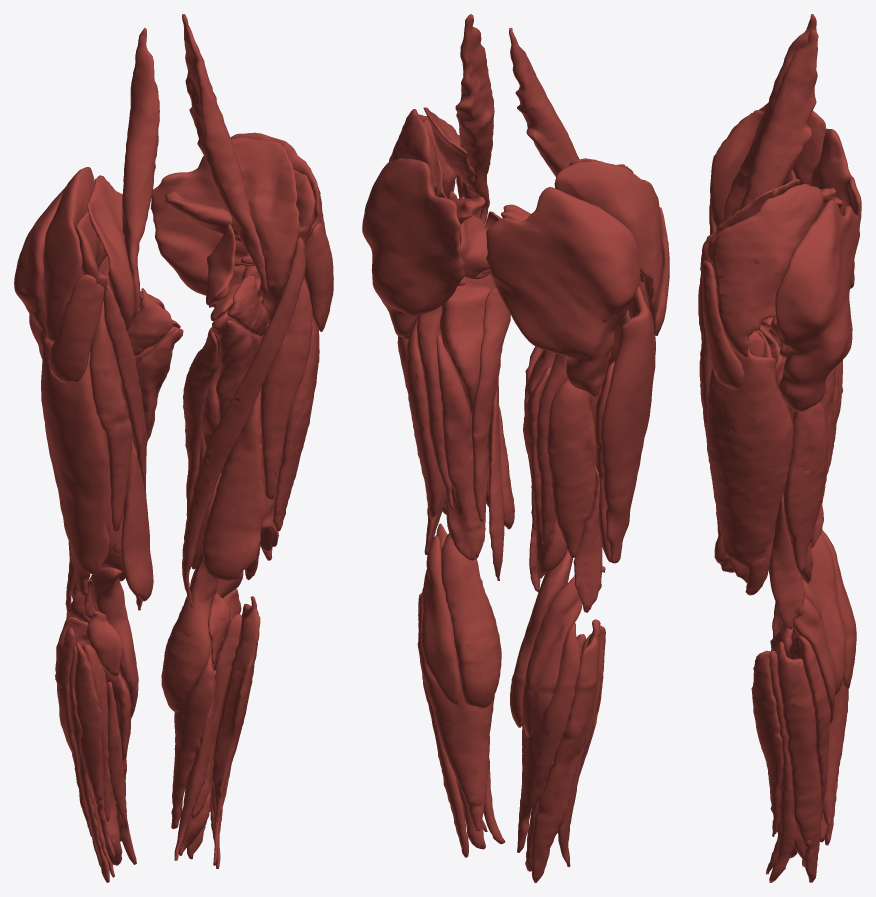
Rendered from vhf_denver_ct_adult_female.muscular.LOD2.glb.
3 views of the same model, side by side, from view 1: azimuth 30°, elevation 25°; view 2: azimuth 150°, elevation 25°; view 3: azimuth 270°, elevation 25° (orthographic).
Visible parts, largest first — view 1: VHF_DENVER_CT.ADULT.FEMALE.MUSCULAR.VASTUS_LATERALIS.R, VHF_DENVER_CT.ADULT.FEMALE.MUSCULAR.GASTROCNEMIUS_MEDIAL_HEA (×2), VHF_DENVER_CT.ADULT.FEMALE.MUSCULAR.VASTUS_MEDIALIS.L, VHF_DENVER_CT.ADULT.FEMALE.MUSCULAR.SARTORIUS.L, VHF_DENVER_CT.ADULT.FEMALE.MUSCULAR.ILIACUS.L, VHF_DENVER_CT.ADULT.FEMALE.MUSCULAR.PSOAS_MAJOR.L, VHF_DENVER_CT.ADULT.FEMALE.MUSCULAR.PSOAS_MAJOR.R, VHF_DENVER_CT.ADULT.FEMALE.MUSCULAR.GLUTEUS_MAXIMUS.L, VHF_DENVER_CT.ADULT.FEMALE.MUSCULAR.RECTUS_FEMORIS.L, VHF_DENVER_CT.ADULT.FEMALE.MUSCULAR.GLUTEUS_MEDIUS.R, VHF_DENVER_CT.ADULT.FEMALE.MUSCULAR.RECTUS_FEMORIS.R, VHF_DENVER_CT.ADULT.FEMALE.MUSCULAR.TIBIALIS_ANTERIOR.L (+32 smaller); view 2: VHF_DENVER_CT.ADULT.FEMALE.MUSCULAR.GLUTEUS_MAXIMUS.R, VHF_DENVER_CT.ADULT.FEMALE.MUSCULAR.GLUTEUS_MAXIMUS.L, VHF_DENVER_CT.ADULT.FEMALE.MUSCULAR.BICEPS_FEMORIS_LONG_HEAD (×2), VHF_DENVER_CT.ADULT.FEMALE.MUSCULAR.GASTROCNEMIUS_MEDIAL_HEA (×2), VHF_DENVER_CT.ADULT.FEMALE.MUSCULAR.VASTUS_LATERALIS.R, VHF_DENVER_CT.ADULT.FEMALE.MUSCULAR.GASTROCNEMIUS_LATERAL_HE (×2), VHF_DENVER_CT.ADULT.FEMALE.MUSCULAR.FIBULARIS_PERONEUS_LONGU (×2), VHF_DENVER_CT.ADULT.FEMALE.MUSCULAR.GLUTEUS_MEDIUS.R, VHF_DENVER_CT.ADULT.FEMALE.MUSCULAR.SEMIMEMBRANOSUS.L, VHF_DENVER_CT.ADULT.FEMALE.MUSCULAR.SOLEUS.L, VHF_DENVER_CT.ADULT.FEMALE.MUSCULAR.SOLEUS.R, VHF_DENVER_CT.ADULT.FEMALE.MUSCULAR.PSOAS_MAJOR.L (+17 smaller); view 3: VHF_DENVER_CT.ADULT.FEMALE.MUSCULAR.VASTUS_LATERALIS.L, VHF_DENVER_CT.ADULT.FEMALE.MUSCULAR.GLUTEUS_MAXIMUS.L, VHF_DENVER_CT.ADULT.FEMALE.MUSCULAR.GLUTEUS_MEDIUS.L, VHF_DENVER_CT.ADULT.FEMALE.MUSCULAR.PSOAS_MAJOR.L, VHF_DENVER_CT.ADULT.FEMALE.MUSCULAR.FIBULARIS_PERONEUS_LONGU, VHF_DENVER_CT.ADULT.FEMALE.MUSCULAR.BICEPS_FEMORIS_LONG_HEAD, VHF_DENVER_CT.ADULT.FEMALE.MUSCULAR.GASTROCNEMIUS_LATERAL_HE (×2), VHF_DENVER_CT.ADULT.FEMALE.MUSCULAR.GASTROCNEMIUS_MEDIAL_HEA (×2), VHF_DENVER_CT.ADULT.FEMALE.MUSCULAR.TIBIALIS_ANTERIOR.L, VHF_DENVER_CT.ADULT.FEMALE.MUSCULAR.BICEPS_FEMORIS_SHORT_HEA, VHF_DENVER_CT.ADULT.FEMALE.MUSCULAR.ILIACUS.R, VHF_DENVER_CT.ADULT.FEMALE.MUSCULAR.TENSOR_FASCIAE_LATAE.L (+13 smaller).
Part boxes in pixels (x1,y1,x2,y2): VHF_DENVER_CT.ADULT.FEMALE.MUSCULAR.VASTUS_LATERALIS.R: (41,337,109,595); VHF_DENVER_CT.ADULT.FEMALE.MUSCULAR.GASTROCNEMIUS_MEDIAL_HEA (×2): (89,557,218,717); VHF_DENVER_CT.ADULT.FEMALE.MUSCULAR.VASTUS_MEDIALIS.L: (202,387,266,580); VHF_DENVER_CT.ADULT.FEMALE.MUSCULAR.SARTORIUS.L: (182,237,305,607); VHF_DENVER_CT.ADULT.FEMALE.MUSCULAR.ILIACUS.L: (231,137,299,324); VHF_DENVER_CT.ADULT.FEMALE.MUSCULAR.PSOAS_MAJOR.L: (182,14,267,298); VHF_DENVER_CT.ADULT.FEMALE.MUSCULAR.PSOAS_MAJOR.R: (122,27,159,317); VHF_DENVER_CT.ADULT.FEMALE.MUSCULAR.GLUTEUS_MAXIMUS.L: (150,156,290,295); VHF_DENVER_CT.ADULT.FEMALE.MUSCULAR.RECTUS_FEMORIS.L: (260,258,312,499); VHF_DENVER_CT.ADULT.FEMALE.MUSCULAR.GLUTEUS_MEDIUS.R: (43,167,94,341); VHF_DENVER_CT.ADULT.FEMALE.MUSCULAR.RECTUS_FEMORIS.R: (89,304,132,531); VHF_DENVER_CT.ADULT.FEMALE.MUSCULAR.TIBIALIS_ANTERIOR.L: (212,612,260,821); VHF_DENVER_CT.ADULT.FEMALE.MUSCULAR.GLUTEUS_MAXIMUS.R: (486,187,640,396); VHF_DENVER_CT.ADULT.FEMALE.MUSCULAR.GLUTEUS_MAXIMUS.L: (362,158,465,338); VHF_DENVER_CT.ADULT.FEMALE.MUSCULAR.BICEPS_FEMORIS_LONG_HEAD (×2): (405,317,596,557); VHF_DENVER_CT.ADULT.FEMALE.MUSCULAR.GASTROCNEMIUS_MEDIAL_HEA (×2): (441,533,572,727); VHF_DENVER_CT.ADULT.FEMALE.MUSCULAR.VASTUS_LATERALIS.R: (600,286,655,563); VHF_DENVER_CT.ADULT.FEMALE.MUSCULAR.GASTROCNEMIUS_LATERAL_HE (×2): (421,535,582,737); VHF_DENVER_CT.ADULT.FEMALE.MUSCULAR.FIBULARIS_PERONEUS_LONGU (×2): (418,593,600,882); VHF_DENVER_CT.ADULT.FEMALE.MUSCULAR.GLUTEUS_MEDIUS.R: (554,160,662,304); VHF_DENVER_CT.ADULT.FEMALE.MUSCULAR.SEMIMEMBRANOSUS.L: (436,335,486,560); VHF_DENVER_CT.ADULT.FEMALE.MUSCULAR.SOLEUS.L: (417,588,494,831); VHF_DENVER_CT.ADULT.FEMALE.MUSCULAR.SOLEUS.R: (517,623,580,852); VHF_DENVER_CT.ADULT.FEMALE.MUSCULAR.PSOAS_MAJOR.L: (455,14,494,224); VHF_DENVER_CT.ADULT.FEMALE.MUSCULAR.VASTUS_LATERALIS.L: (705,340,793,595); VHF_DENVER_CT.ADULT.FEMALE.MUSCULAR.GLUTEUS_MAXIMUS.L: (775,200,859,411); VHF_DENVER_CT.ADULT.FEMALE.MUSCULAR.GLUTEUS_MEDIUS.L: (712,183,823,357); VHF_DENVER_CT.ADULT.FEMALE.MUSCULAR.PSOAS_MAJOR.L: (740,29,818,209); VHF_DENVER_CT.ADULT.FEMALE.MUSCULAR.FIBULARIS_PERONEUS_LONGU: (777,641,821,882); VHF_DENVER_CT.ADULT.FEMALE.MUSCULAR.BICEPS_FEMORIS_LONG_HEAD: (783,401,828,573); VHF_DENVER_CT.ADULT.FEMALE.MUSCULAR.GASTROCNEMIUS_LATERAL_HE (×2): (793,529,856,723); VHF_DENVER_CT.ADULT.FEMALE.MUSCULAR.GASTROCNEMIUS_MEDIAL_HEA (×2): (768,533,846,695); VHF_DENVER_CT.ADULT.FEMALE.MUSCULAR.TIBIALIS_ANTERIOR.L: (751,650,783,836); VHF_DENVER_CT.ADULT.FEMALE.MUSCULAR.BICEPS_FEMORIS_SHORT_HEA: (769,492,804,629); VHF_DENVER_CT.ADULT.FEMALE.MUSCULAR.ILIACUS.R: (710,110,763,227); VHF_DENVER_CT.ADULT.FEMALE.MUSCULAR.TENSOR_FASCIAE_LATAE.L: (702,261,744,389).
Size of the model in its own units: 0.3426 by 1.02 by 0.1782.
